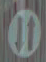Two way: (6, 2, 43, 60)
